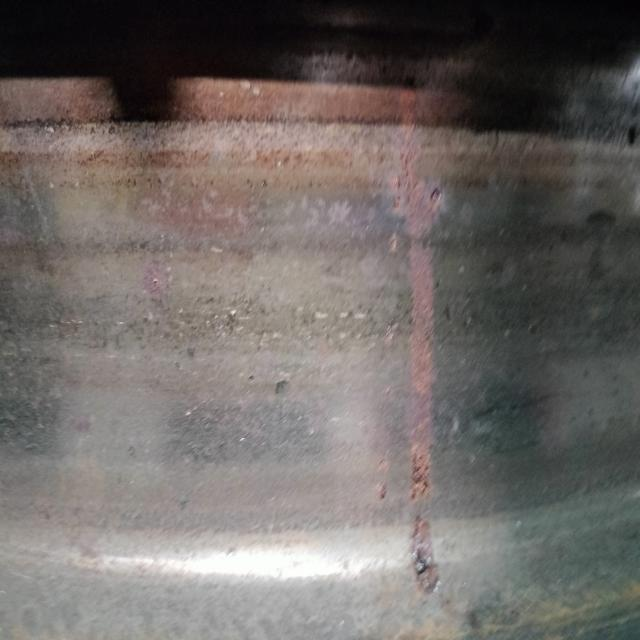Contact_Fatigue_Cracks: (42, 291, 272, 348)
